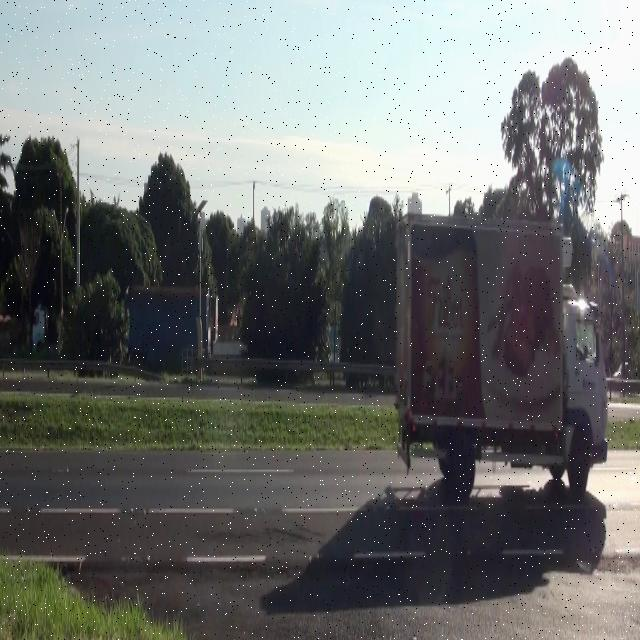-axle: (451, 422, 479, 504), (568, 420, 594, 498)
